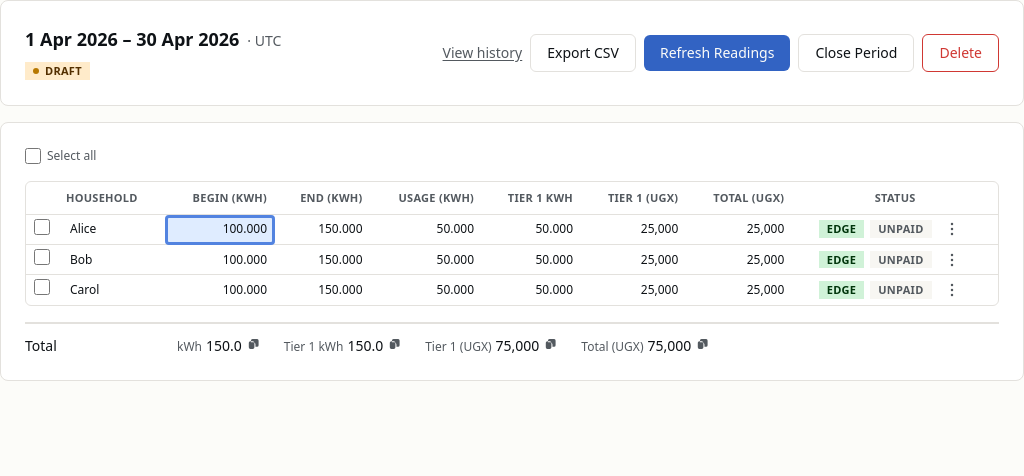
Test: BillingTable BC3 — multi-select › clicking 2 row checkboxes shows the sticky bar with '2 selected'
Click the checkbox named "Select Alice".
click(42, 227)  # box [34, 219, 50, 235]
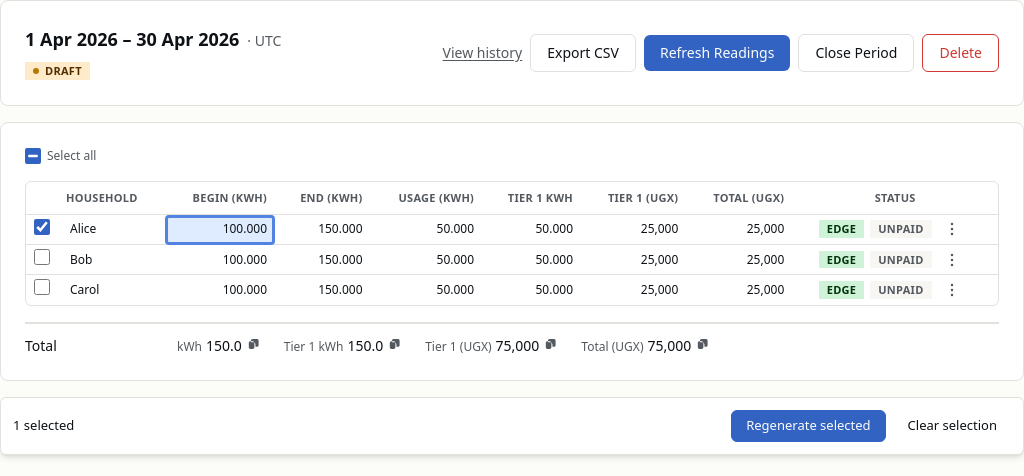
Click the checkbox named "Select Bob".
click(42, 257)  # box [34, 249, 50, 265]
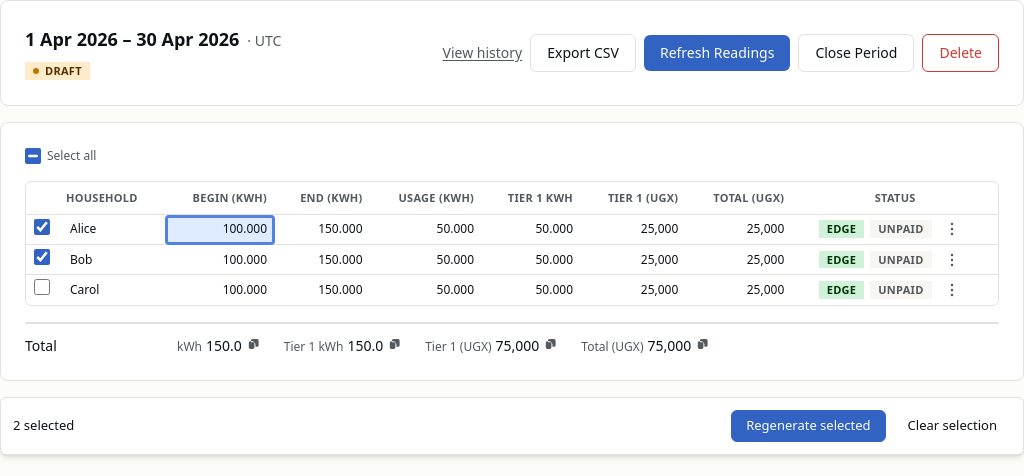
Result: the element with test id "sticky-selection-bar" shows "2 selected" at [0, 396, 1023, 454]
